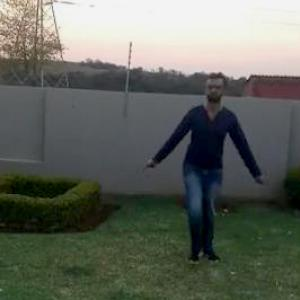land: (149, 65, 281, 286)
